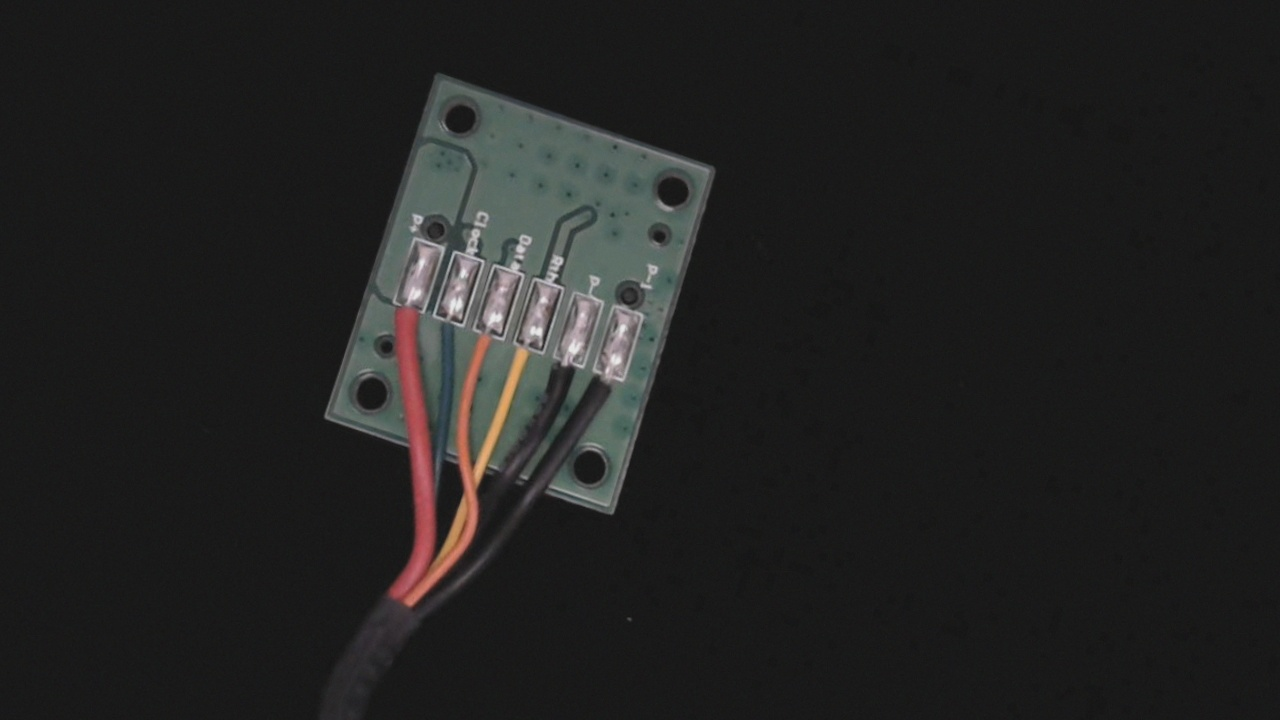Black: (529, 339, 590, 429)
Black1: (574, 353, 632, 436)
Green: (416, 295, 476, 382)
Orange: (455, 310, 514, 398)
Red: (371, 286, 432, 372)
Yellow: (492, 324, 554, 415)
